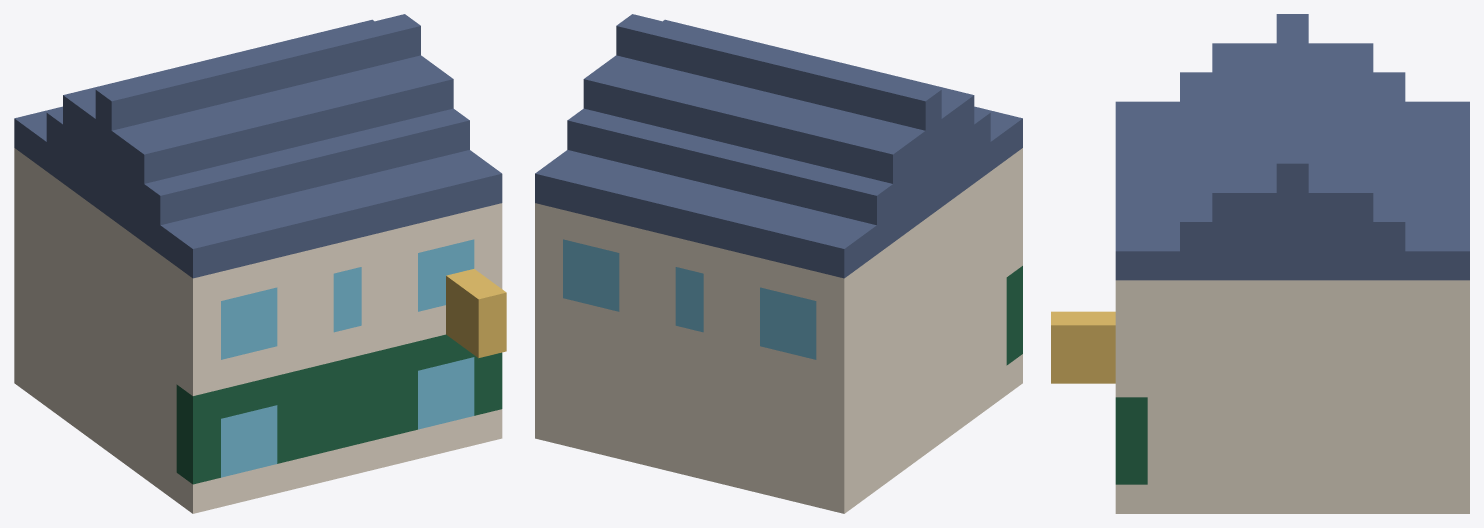
File: pub.glb
The picture shows the model from 3 angles, left to right: view 1: azimuth 30°, elevation 25°; view 2: azimuth 150°, elevation 25°; view 3: azimuth 270°, elevation 25°; orthographic projection.
Visible parts, largest first — view 1: pub_roof_slate, pub_wall_cream, pub_pub_green, pub_window, pub_gold; view 2: pub_wall_cream, pub_roof_slate, pub_window, pub_pub_green; view 3: pub_wall_cream, pub_roof_slate, pub_gold, pub_pub_green.
Boxes of the visible parts, x1=… form: pub_roof_slate: x1=14, y1=14, x2=502, y2=278; pub_wall_cream: x1=14, y1=148, x2=502, y2=513; pub_pub_green: x1=176, y1=334, x2=502, y2=484; pub_window: x1=221, y1=239, x2=474, y2=477; pub_gold: x1=446, y1=269, x2=506, y2=358; pub_wall_cream: x1=535, y1=148, x2=1022, y2=513; pub_roof_slate: x1=535, y1=14, x2=1022, y2=278; pub_window: x1=563, y1=239, x2=816, y2=359; pub_pub_green: x1=1006, y1=266, x2=1022, y2=365; pub_wall_cream: x1=1115, y1=280, x2=1469, y2=513; pub_roof_slate: x1=1115, y1=14, x2=1469, y2=280; pub_gold: x1=1051, y1=311, x2=1115, y2=383; pub_pub_green: x1=1115, y1=397, x2=1147, y2=484.
Size of the model in its own units: 10.37 by 11.32 by 12.26.
